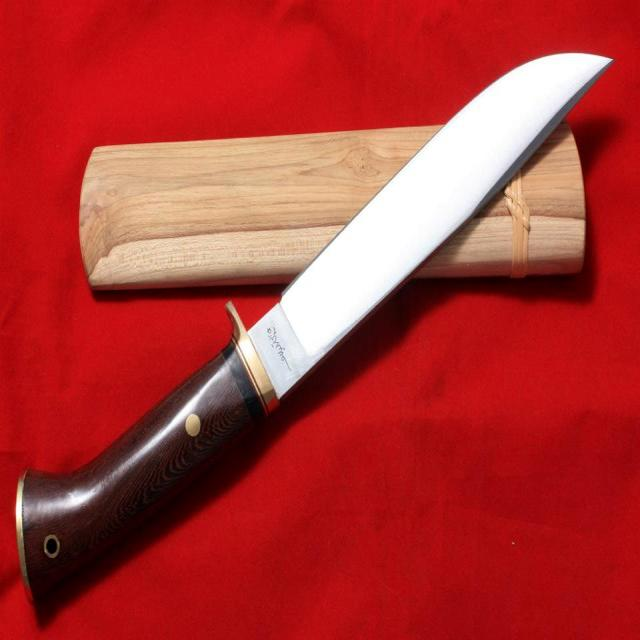short sword: (14, 40, 621, 615)
